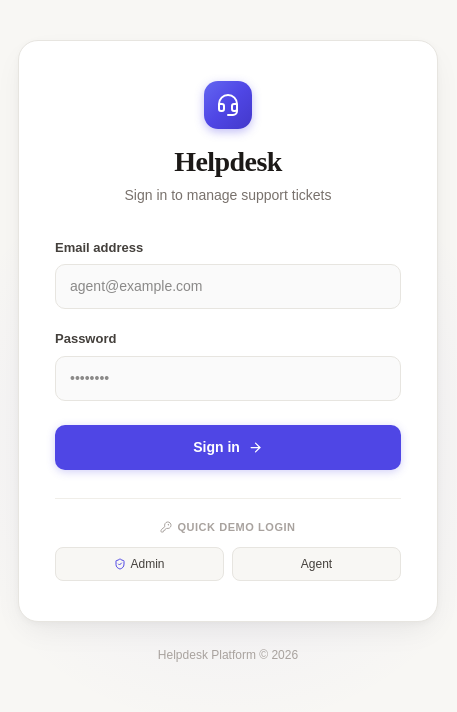
Scenario: Login Component › shows error for wrong credentials
This screenshot has width=457, height=712.
Type "wrong@example.com" into the field with placeholder "agent@example.com". click: coordinates (228, 286)
box: 55,264 -> 401,309
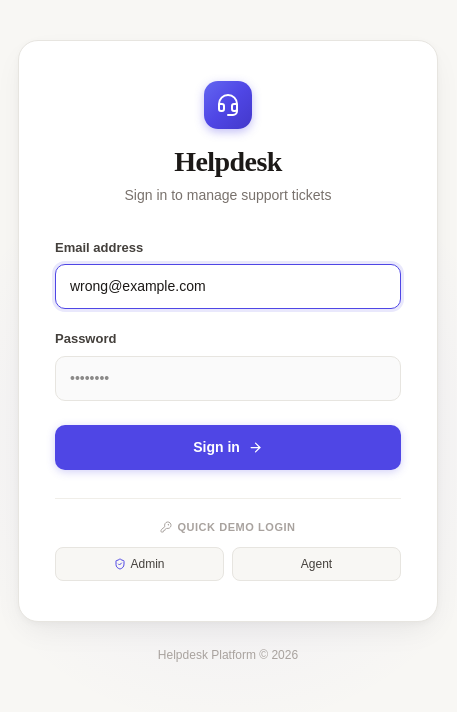
Type "wrongpassword" into the password field with placeholder "••••••••". click: coordinates (228, 378)
box: 55,356 -> 401,400
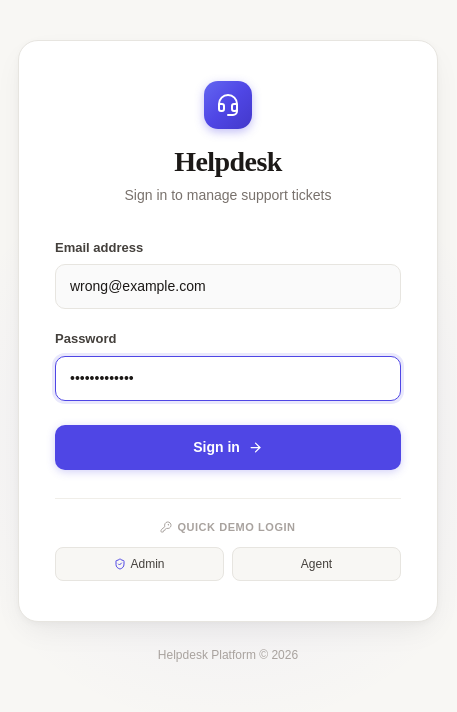
Click the button "Sign in". click: coordinates (228, 447)
box: 55,424 -> 401,470
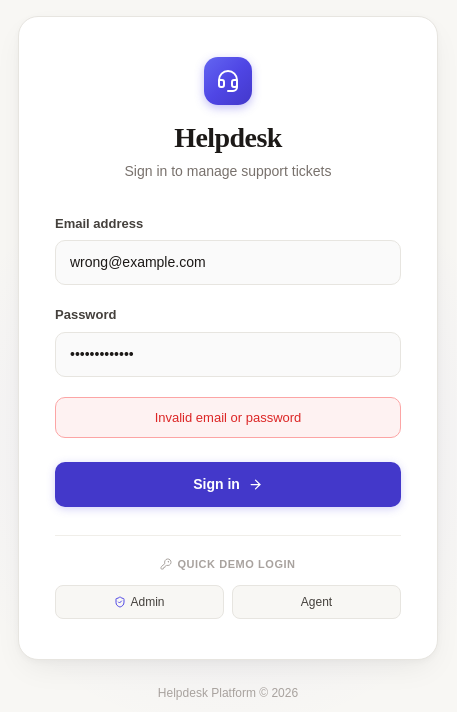
expect the text "Invalid email or password" is shown: met, box 55,397 -> 401,438
